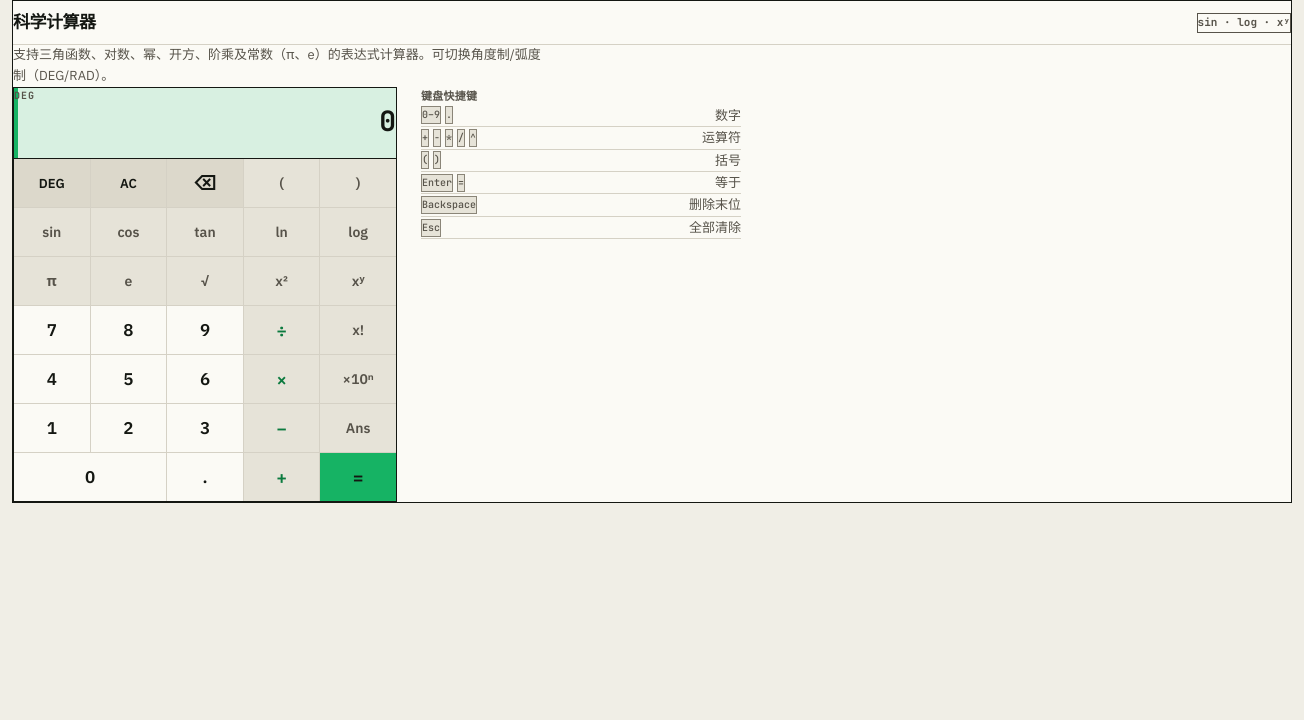
Test: ScientificCalc › AC clears the expression
Click the button "7": (52,330) [14,306,90,354]
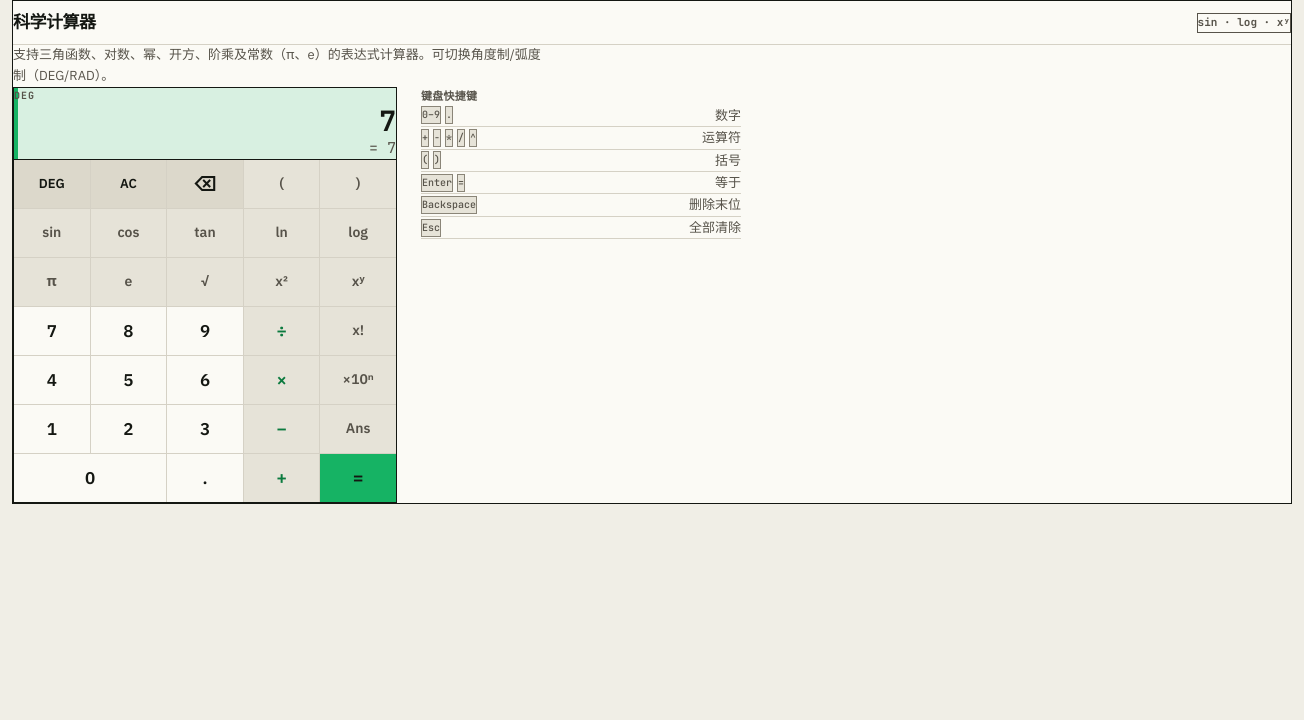
Click the button "7": (52,331) [14,307,90,355]
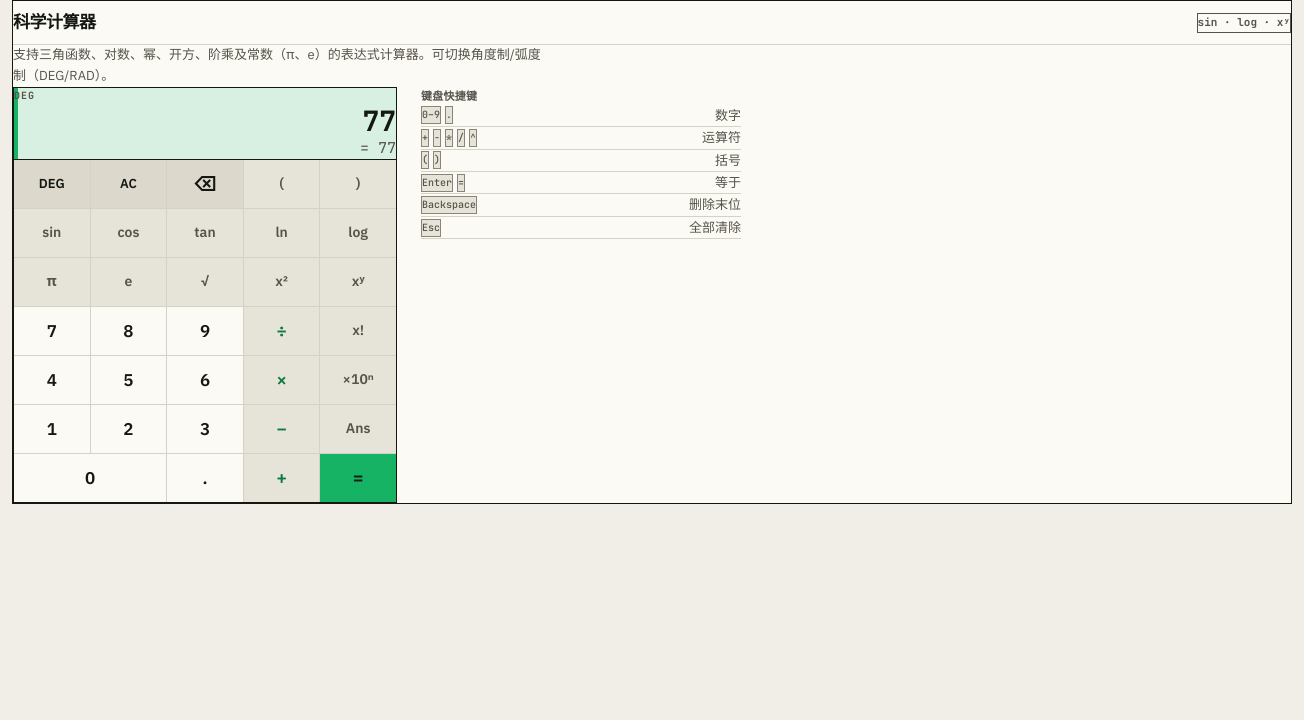
Result: the text "77" is shown at [362,102,396,139]
Click the button with aria-label "clear all": (128,184) [91,160,166,208]
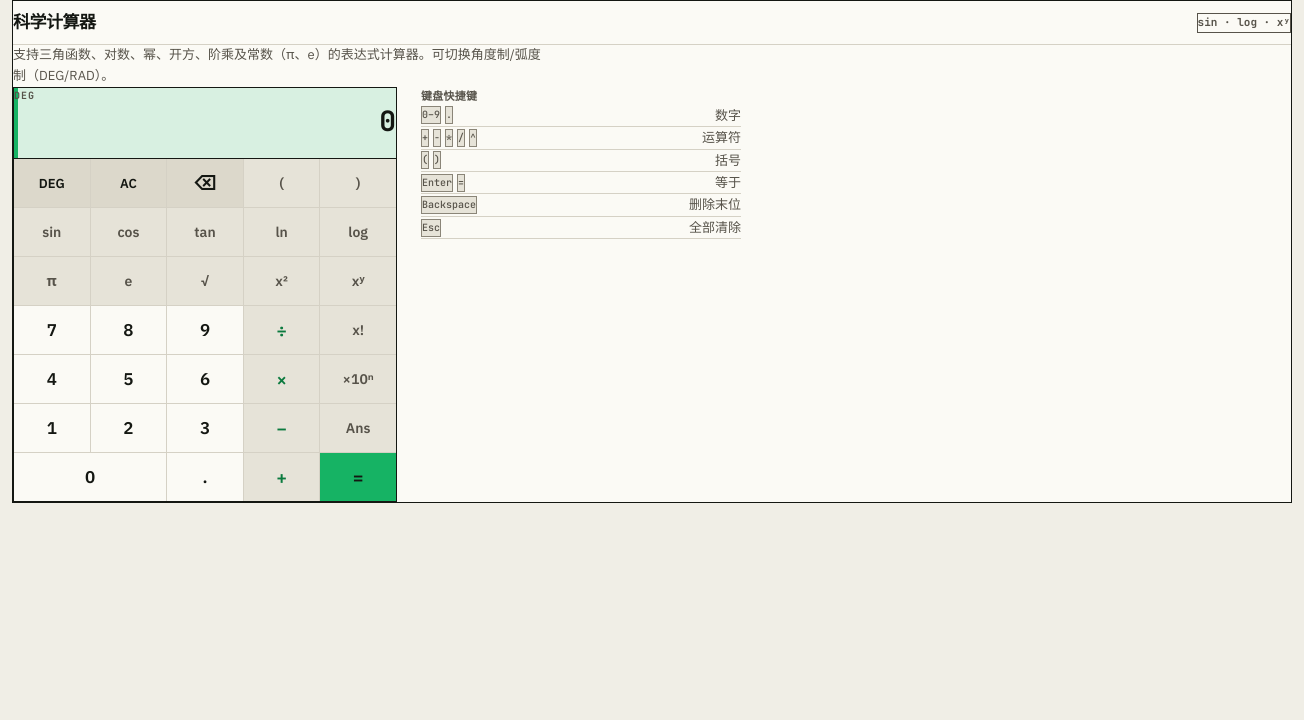
Result: the text "0" is shown at [379,102,396,139]
